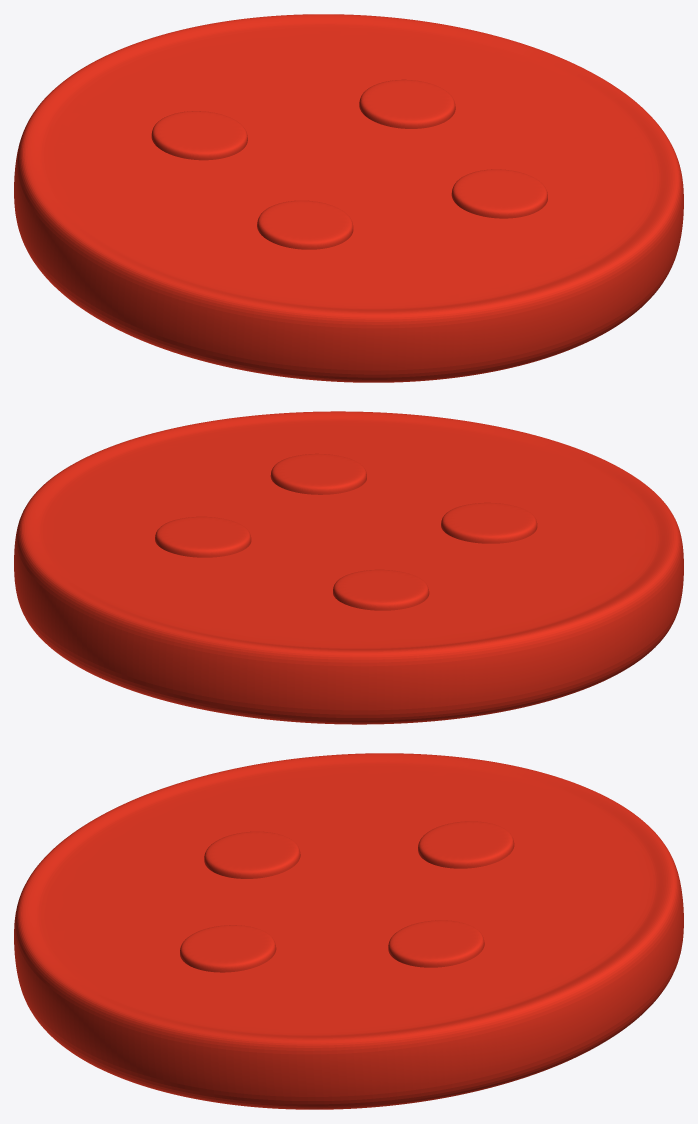
File: tommate_2.fbx
3 renders of one model, top to bottom at view 1: azimuth 30°, elevation 25°; view 2: azimuth 150°, elevation 25°; view 3: azimuth 270°, elevation 25°, orthographic.
Visible parts, largest first — view 1: tomato.004; view 2: tomato.004; view 3: tomato.004.
Part boxes in pixels (x1,y1,x2,y2): tomato.004: (14, 14, 683, 382); tomato.004: (14, 411, 683, 724); tomato.004: (14, 753, 683, 1109).
Size of the model in its own units: 116 by 20.52 by 116.
